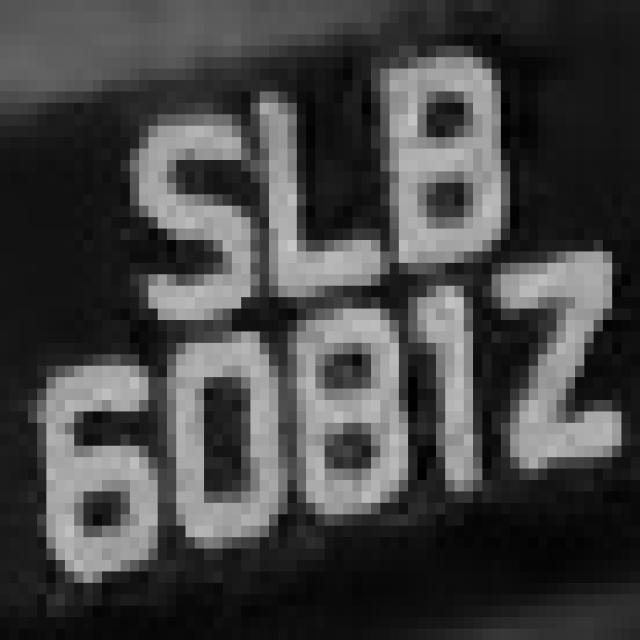0: (167, 320, 287, 617)
1: (398, 263, 492, 548)
6: (0, 297, 176, 606)
8: (269, 286, 408, 548)
B: (380, 23, 529, 274)
L: (232, 80, 371, 331)
S: (112, 68, 250, 332)
Z: (482, 240, 640, 526)
